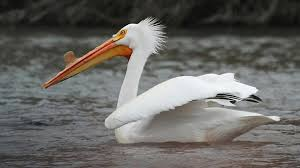pelican: (42, 18, 280, 143)
